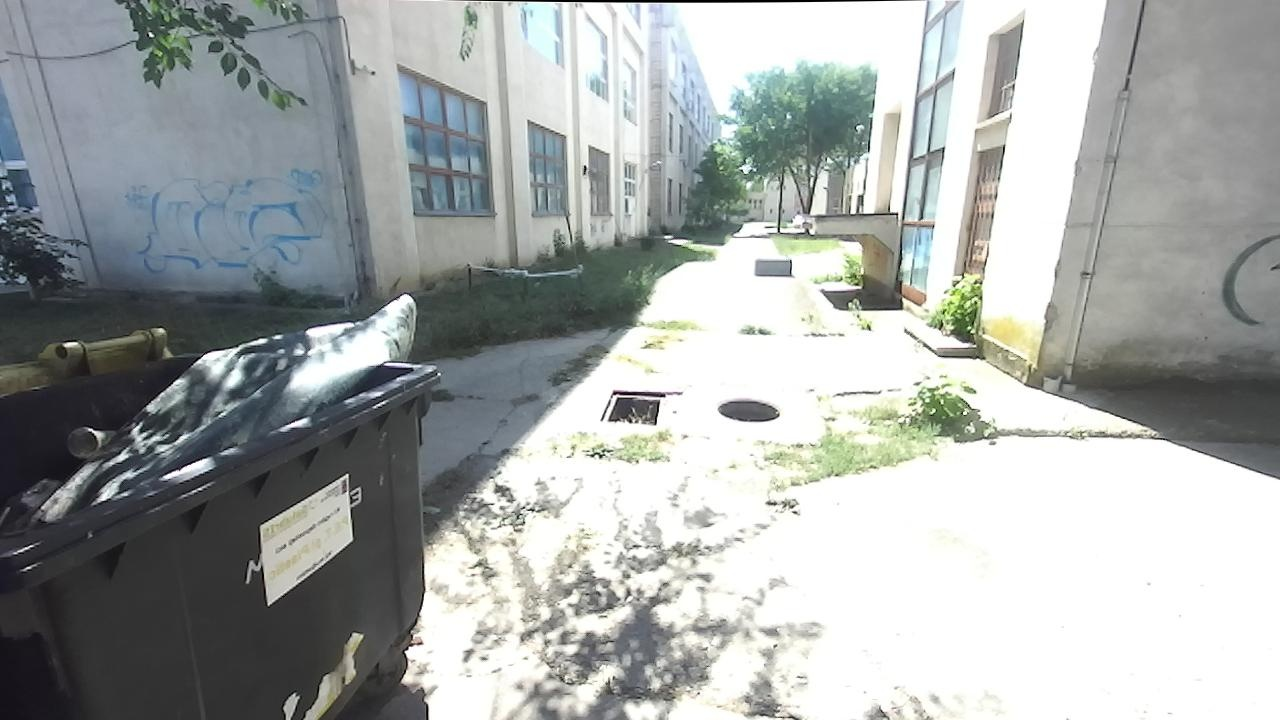drain: (597, 388, 665, 427), (709, 394, 785, 423)
